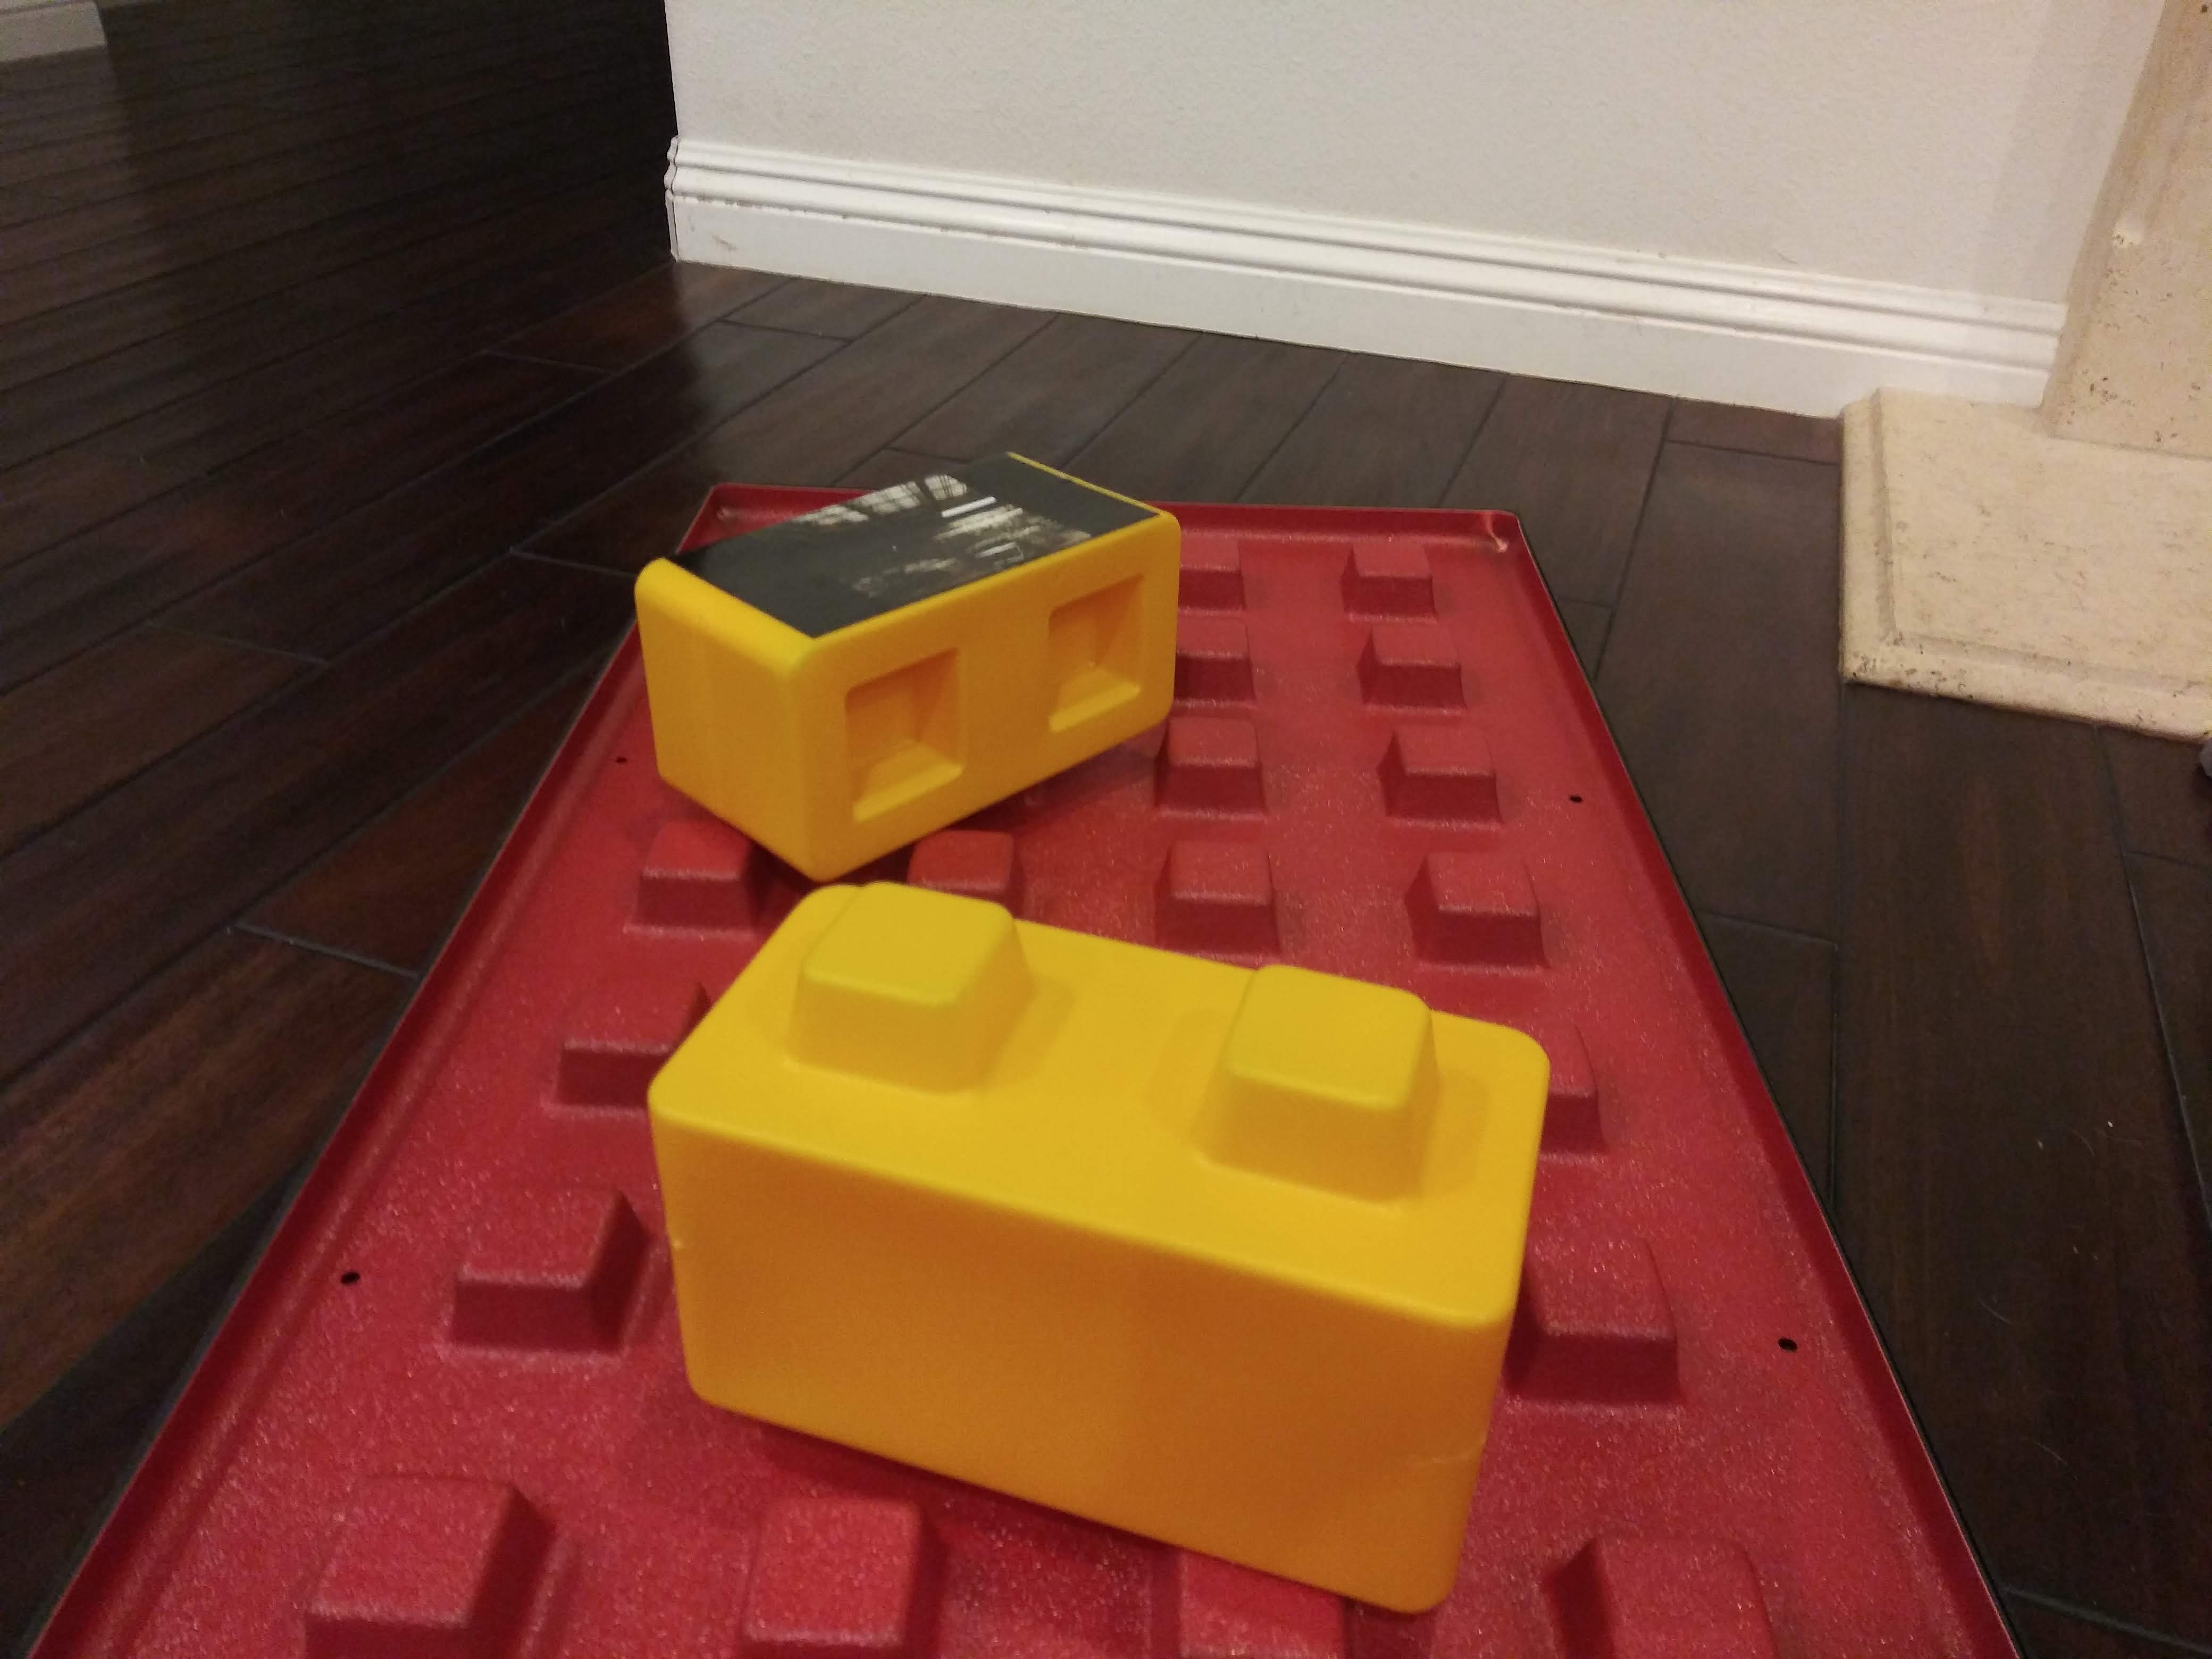skystone: (634, 483, 1198, 814)
stone: (672, 913, 1534, 1558)
